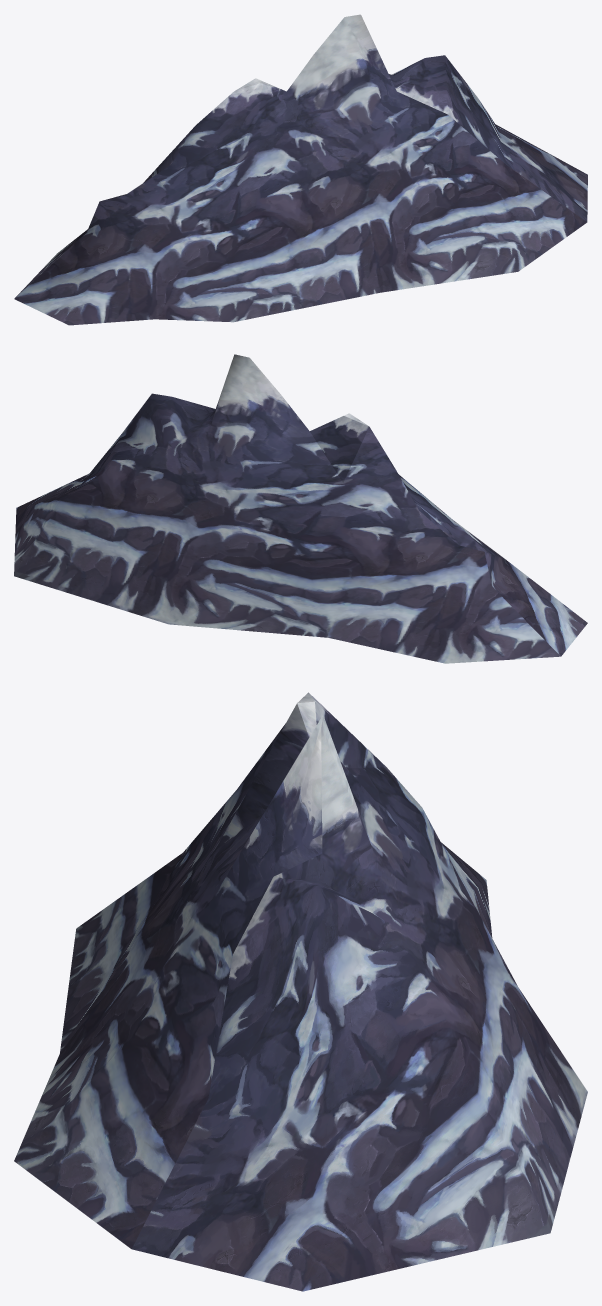
Rendered from Battle07_Hill_07.FBX.
3 renders of one model, top to bottom at view 1: azimuth 30°, elevation 25°; view 2: azimuth 150°, elevation 25°; view 3: azimuth 270°, elevation 25°, orthographic. The views are drawn at different scales.
Parts seen in each view (by area): view 1: Battle07_Hill_07; view 2: Battle07_Hill_07; view 3: Battle07_Hill_07.
Part boxes in pixels (x1,y1,x2,y2): Battle07_Hill_07: (14, 14, 587, 325); Battle07_Hill_07: (14, 354, 587, 663); Battle07_Hill_07: (14, 692, 587, 1291).
Size of the model in its own units: 50.92 by 18.45 by 25.76.
